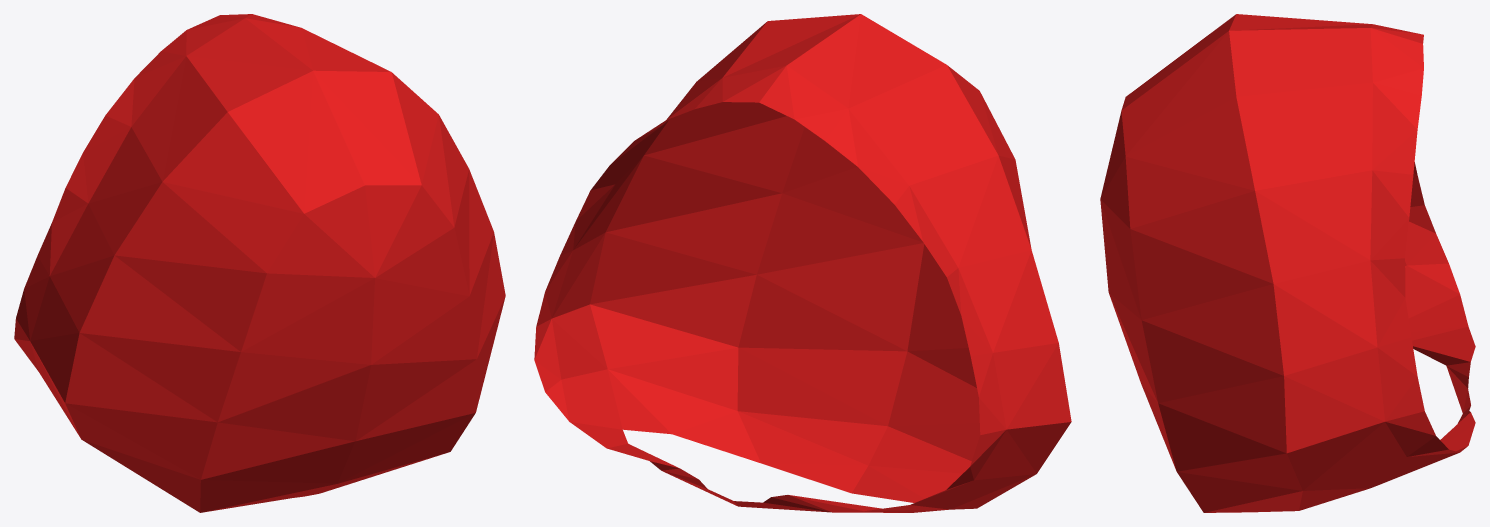
The model's file is hoodie__Object_2.glb.
The picture shows the model from 3 angles, left to right: view 1: azimuth 30°, elevation 25°; view 2: azimuth 150°, elevation 25°; view 3: azimuth 270°, elevation 25°; orthographic projection. The views are drawn at different scales.
Visible parts, largest first — view 1: geometry_0; view 2: geometry_0; view 3: geometry_0.
Boxes of the visible parts, x1=… form: geometry_0: x1=14, y1=14, x2=505, y2=512; geometry_0: x1=534, y1=14, x2=1071, y2=512; geometry_0: x1=1100, y1=14, x2=1475, y2=512.
Size of the model in its own units: 1.47 by 1.39 by 1.04.
